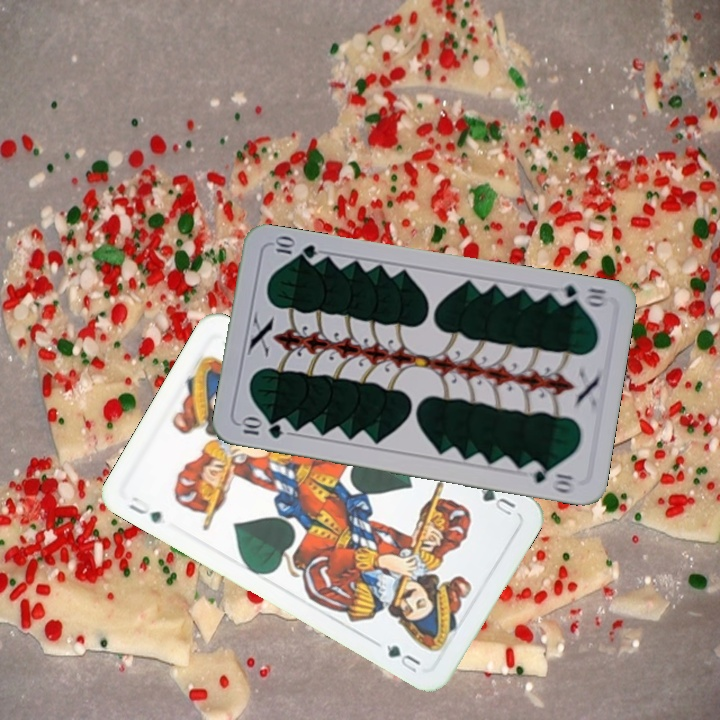G10: (550, 280, 611, 310), (236, 415, 285, 441)
GU: (476, 483, 518, 519), (124, 492, 165, 527)
